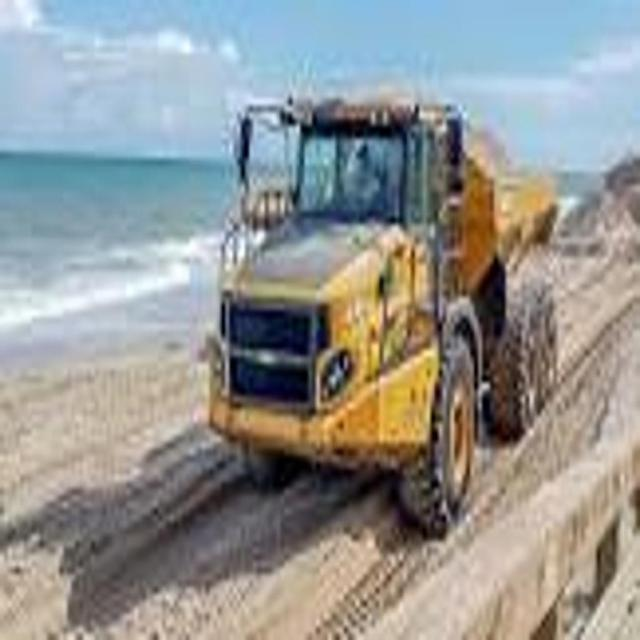dump_truck: (204, 82, 571, 540)
